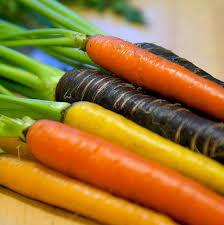Organic: (3, 6, 224, 225)
